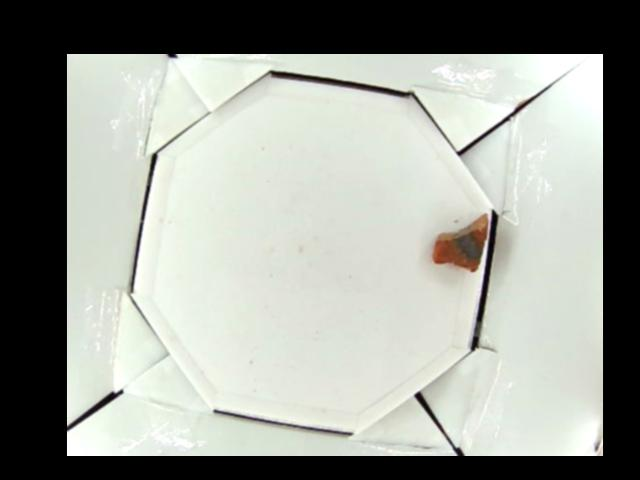Brisk: (431, 213, 489, 271)
